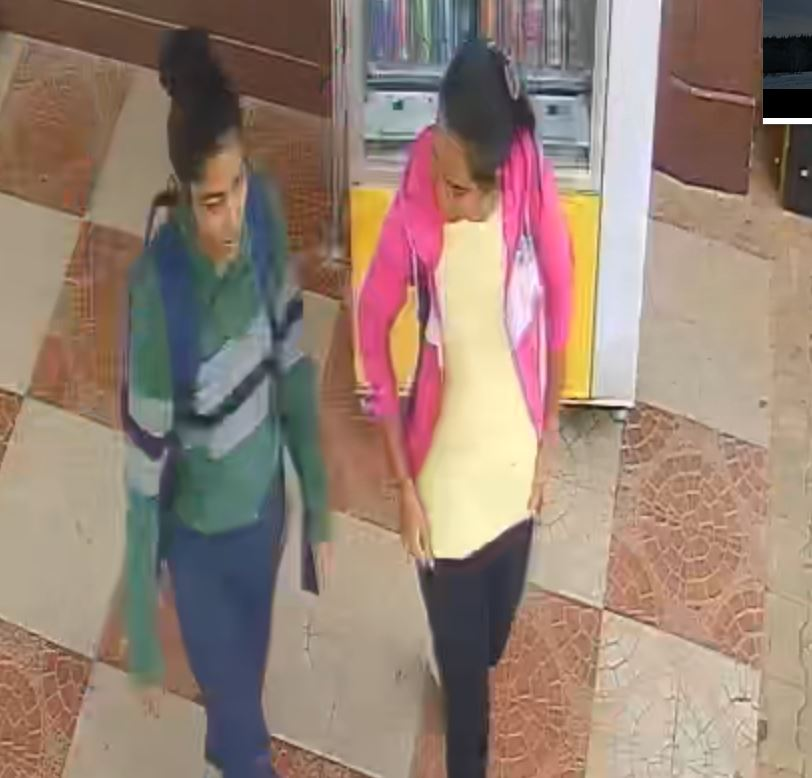intruder: (356, 26, 582, 778), (114, 22, 337, 778)
